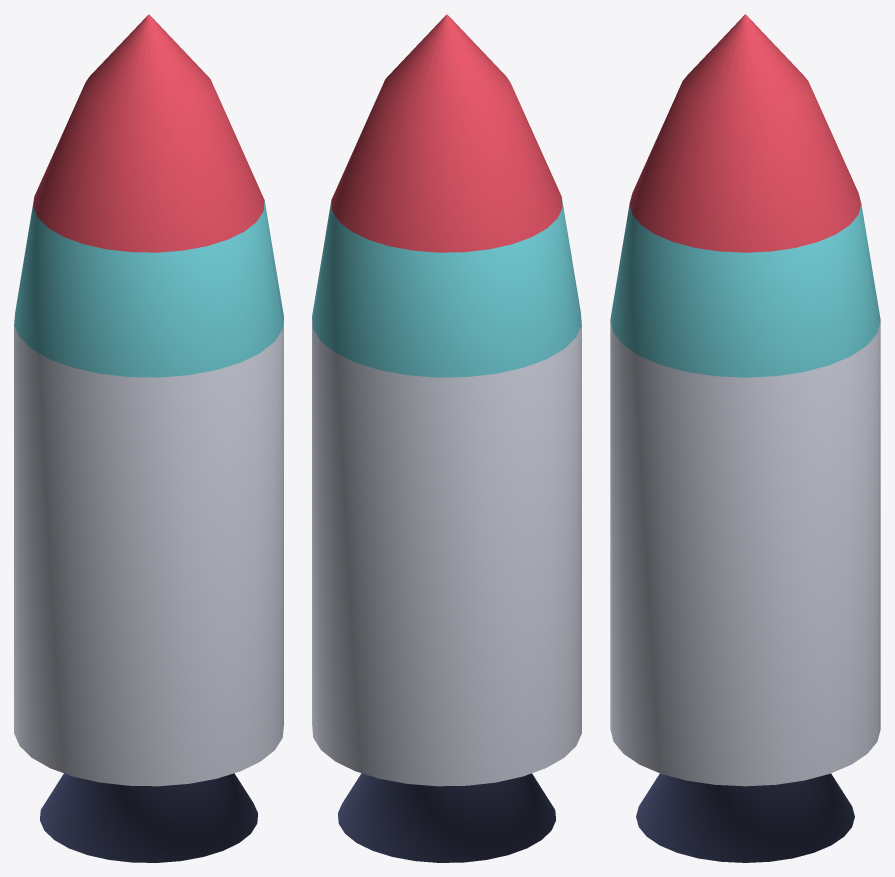
The model's file is rocket.obj.
3 renders of one model, left to right at view 1: azimuth 30°, elevation 25°; view 2: azimuth 150°, elevation 25°; view 3: azimuth 270°, elevation 25°, orthographic.
Bounding box in the file's own units: 0.84 × 2.75 × 0.84.
